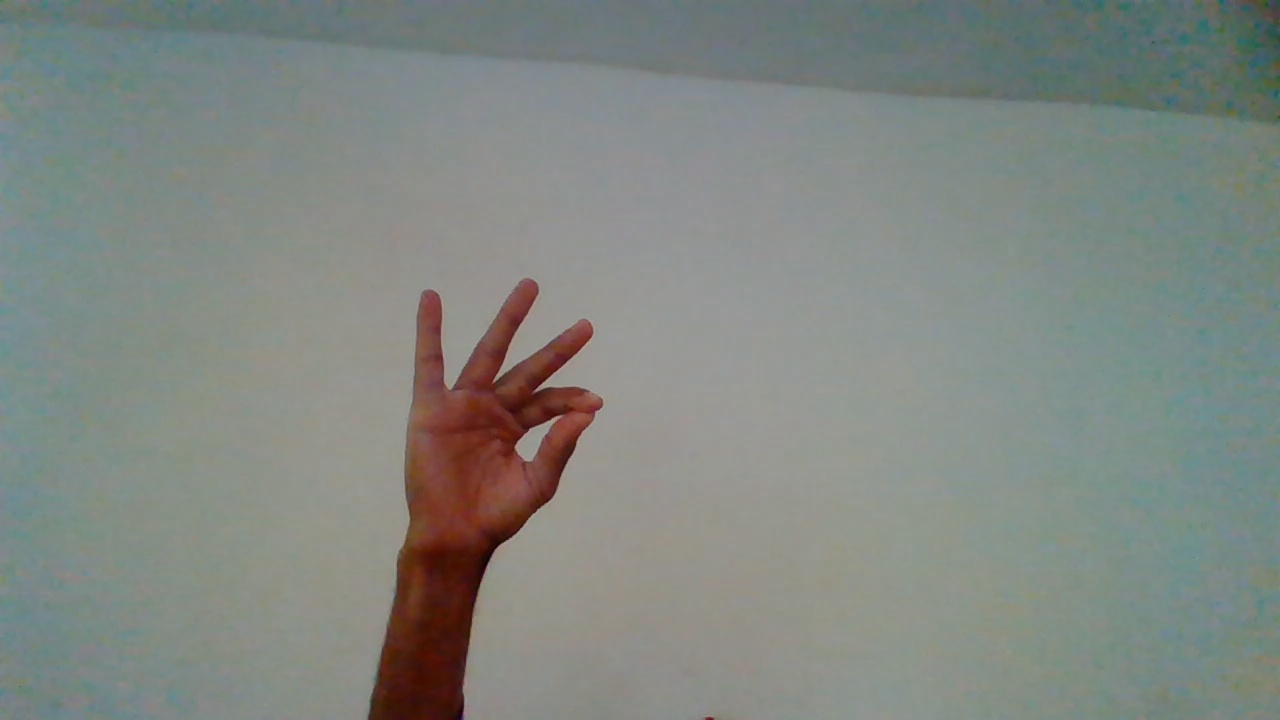le: (402, 277, 605, 655)
